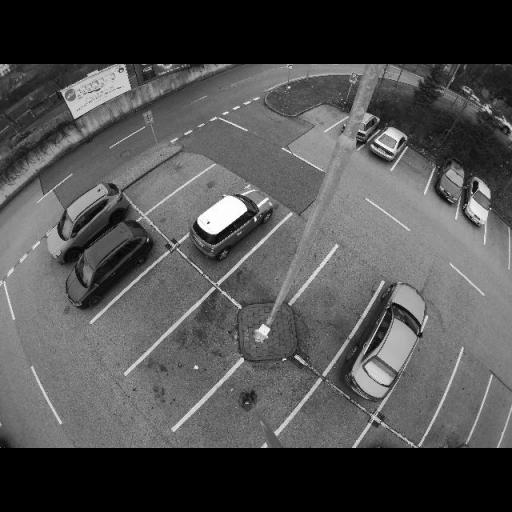busy: (348, 275, 431, 402), (70, 218, 152, 302), (183, 187, 276, 258), (51, 184, 120, 254), (462, 175, 494, 227), (370, 122, 411, 162), (434, 157, 468, 205), (352, 112, 380, 144)
free: (212, 390, 276, 439), (166, 332, 224, 382), (310, 283, 360, 322), (132, 284, 183, 319), (255, 243, 303, 280), (403, 368, 443, 408), (298, 416, 348, 448), (444, 387, 482, 426), (478, 406, 511, 442), (178, 190, 212, 213), (482, 225, 508, 250), (403, 155, 431, 178), (152, 170, 181, 190), (310, 105, 334, 127)
